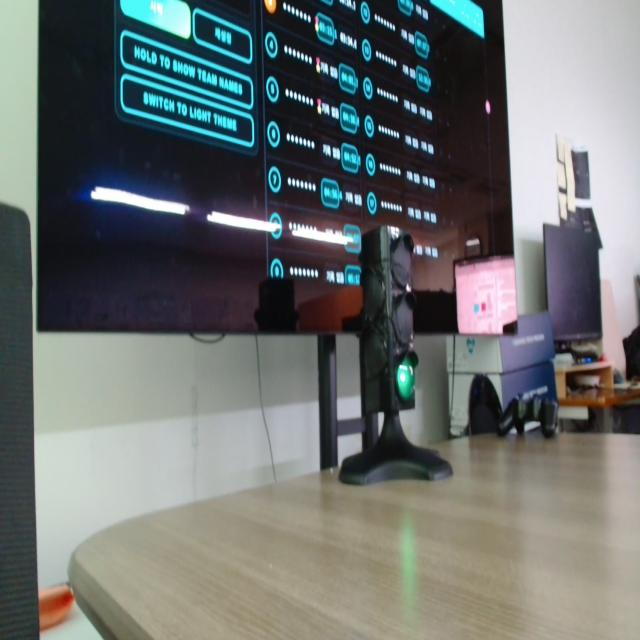green_light: (397, 355, 416, 401)
